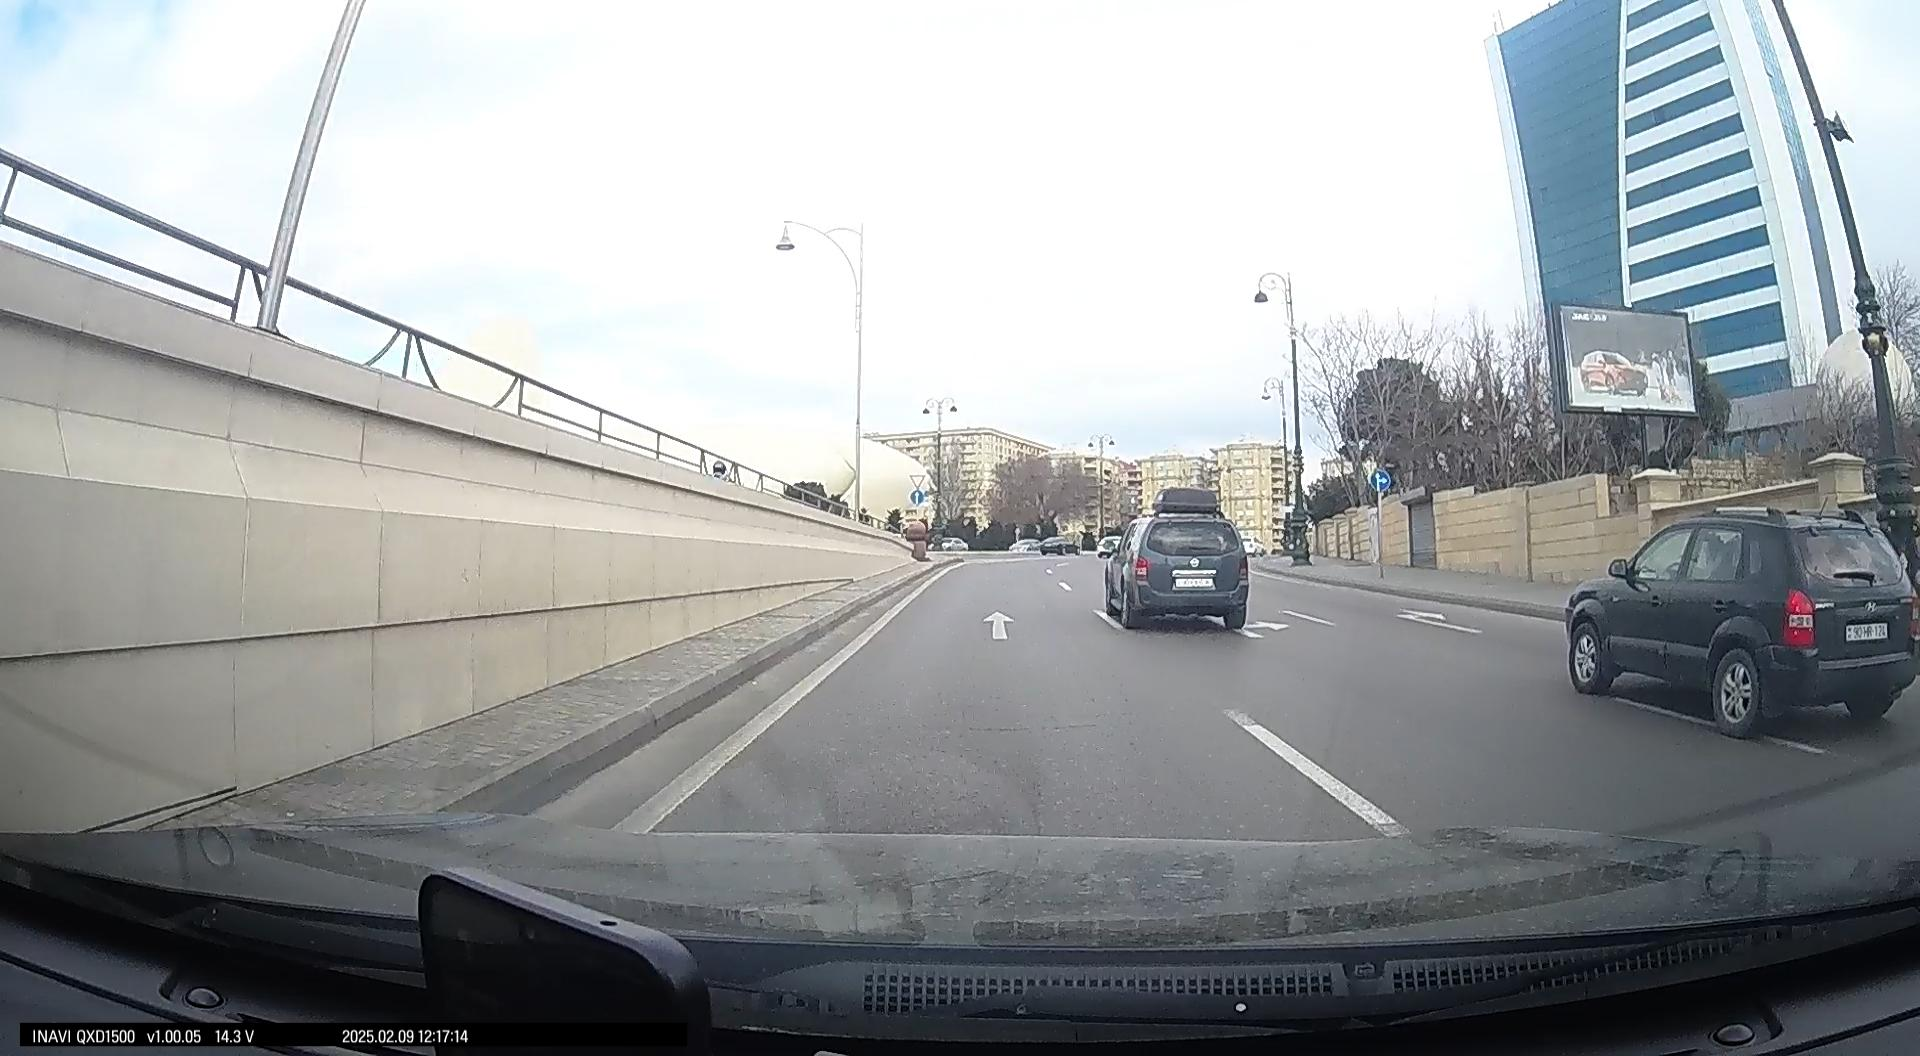banner: (1544, 299, 1703, 419)
